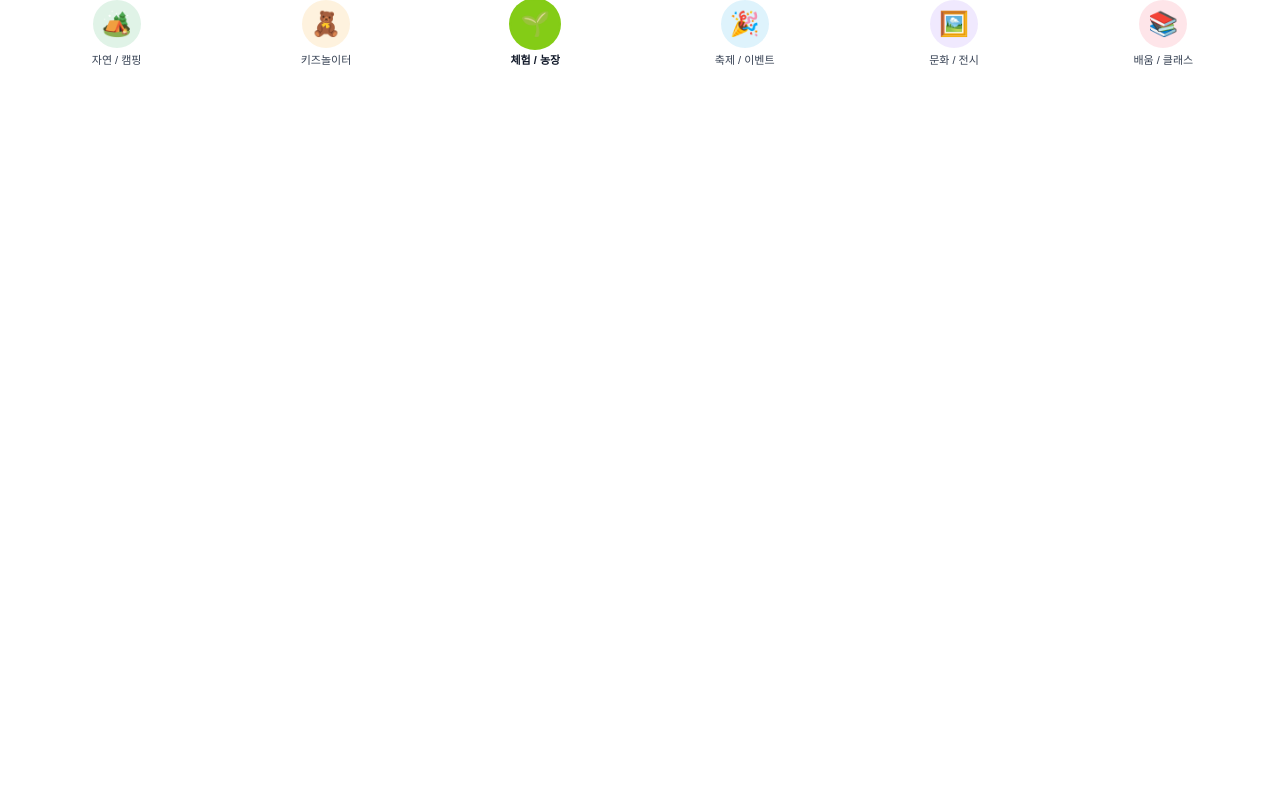
Test case: MajorCategoryGrid › 같은 대분류를 다시 클릭하면 시트가 다시 열린다
Expected: the text "도시농업" is not shown
What coordinates should you click on to do the following:
click the button "🌱 체험 / 농장"
I would click on:
 (535, 34)
Its box is [435, 0, 636, 68].
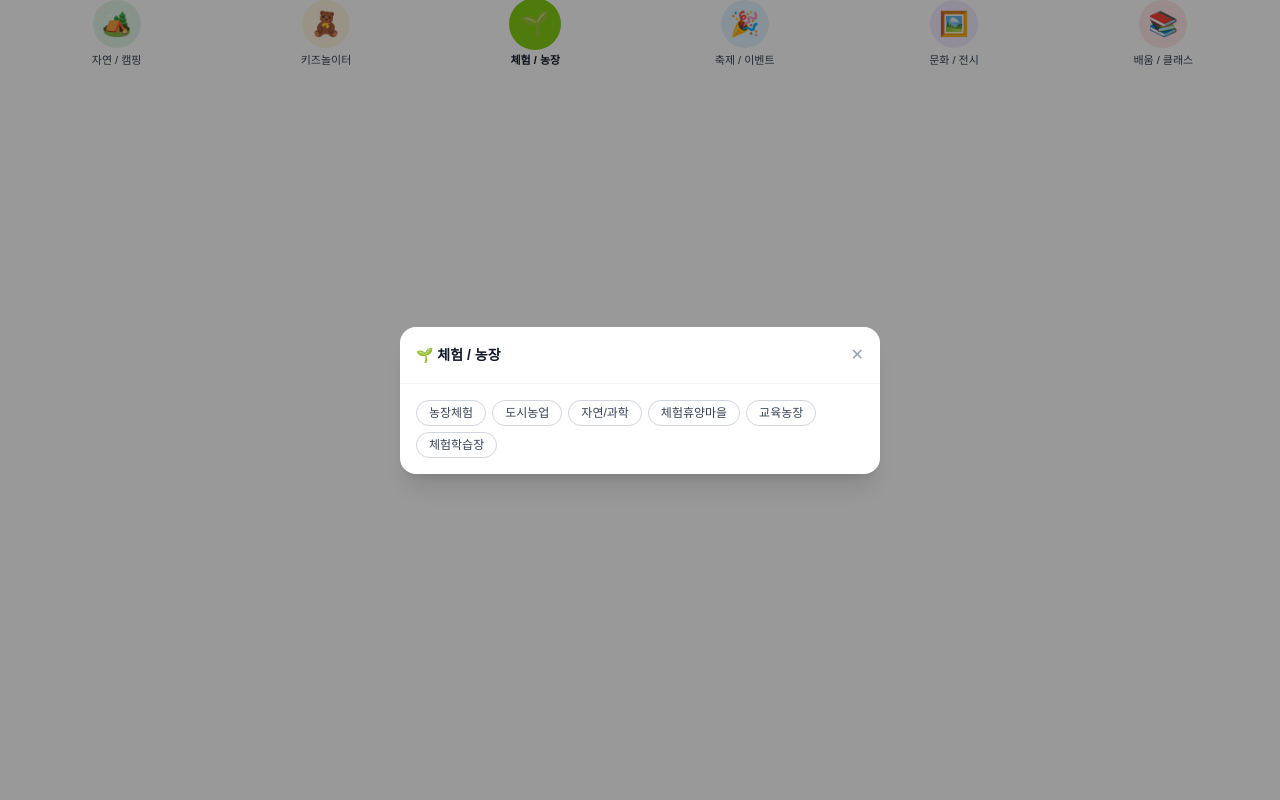
Expected: the button "도시농업" is shown, [492, 400, 562, 426]
